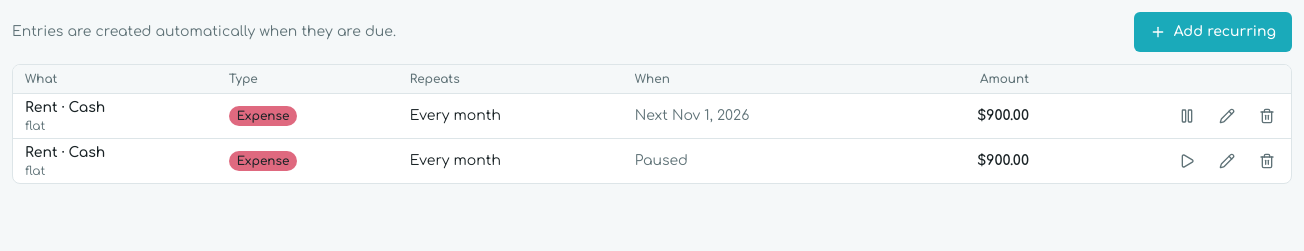
RecurringManager › pauses and resumes a rule, and shows a failure
Click the button named "Pause" at (1187, 116), box [1167, 96, 1207, 136]
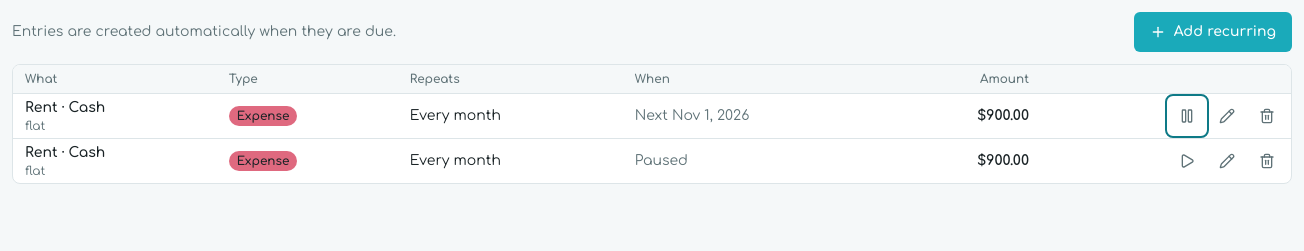
Click the button named "Resume" at (1187, 161), box [1167, 141, 1207, 181]
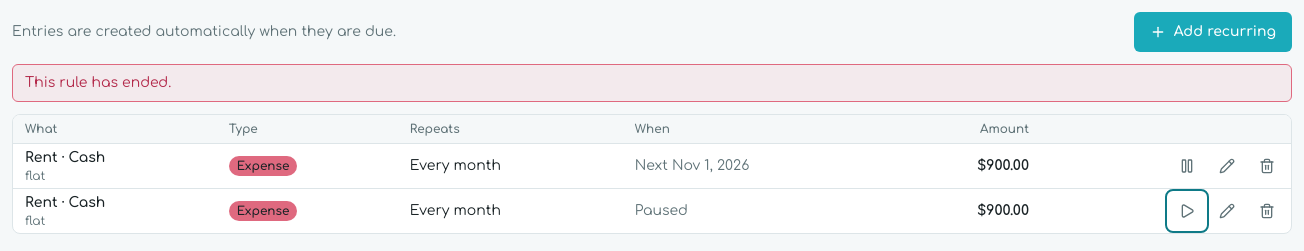
Check: the text "This rule has ended." is shown, box [12, 64, 1292, 102]
